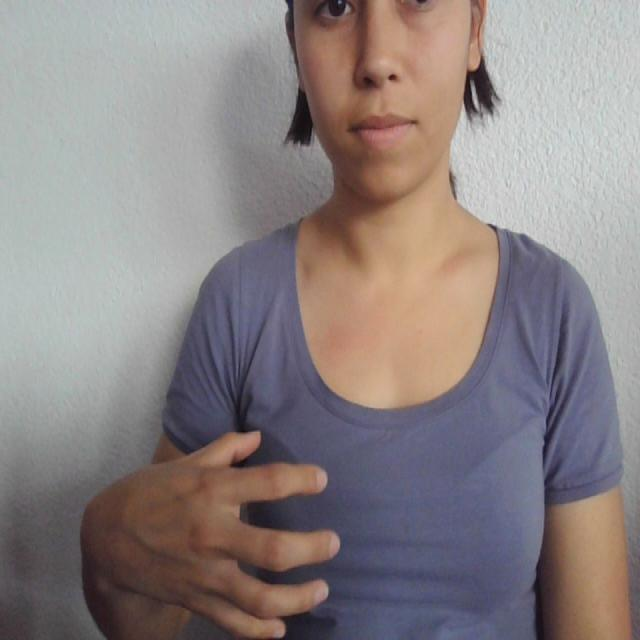Anne: (85, 414, 564, 640)
